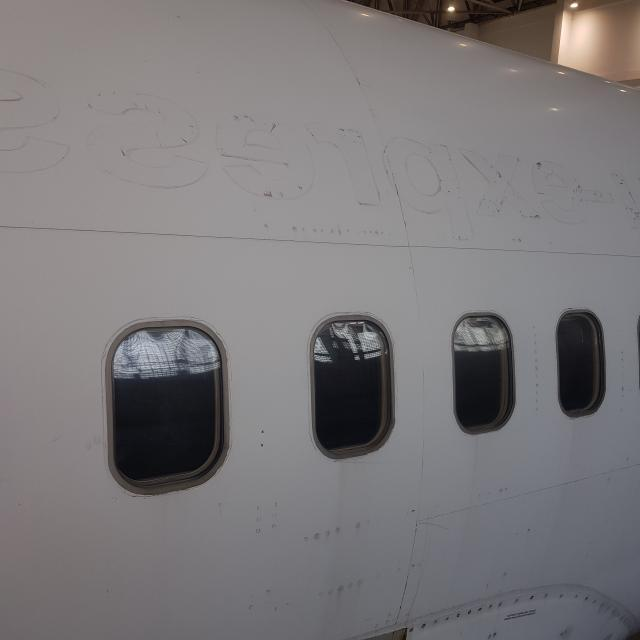crack: (414, 519, 462, 537)
